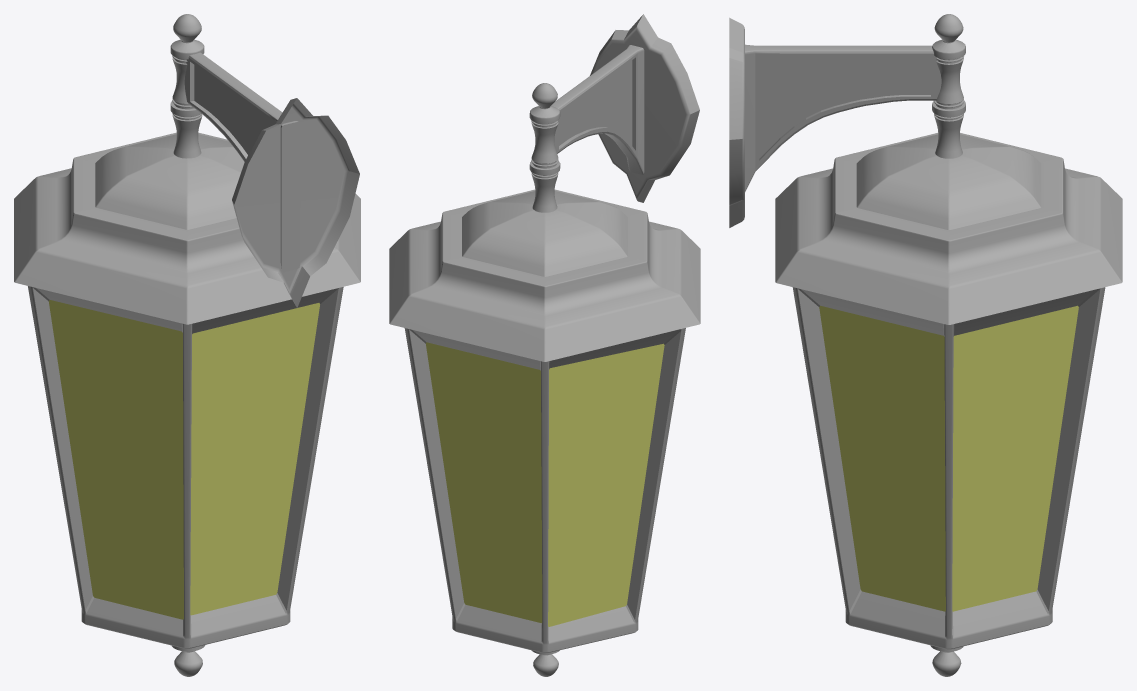
The model's file is SM_Lamp.fbx.
3 views of the same model, side by side, from view 1: azimuth 30°, elevation 25°; view 2: azimuth 150°, elevation 25°; view 3: azimuth 270°, elevation 25° (orthographic). The views are drawn at different scales.
Visible parts, largest first — view 1: SM_Lamp; view 2: SM_Lamp; view 3: SM_Lamp.
Part boxes in pixels (x1,y1,x2,y2): SM_Lamp: [14, 14, 360, 676]; SM_Lamp: [389, 14, 700, 676]; SM_Lamp: [729, 14, 1122, 676].
Bounding box in the file's own units: 48.6 × 88.97 × 47.85.
